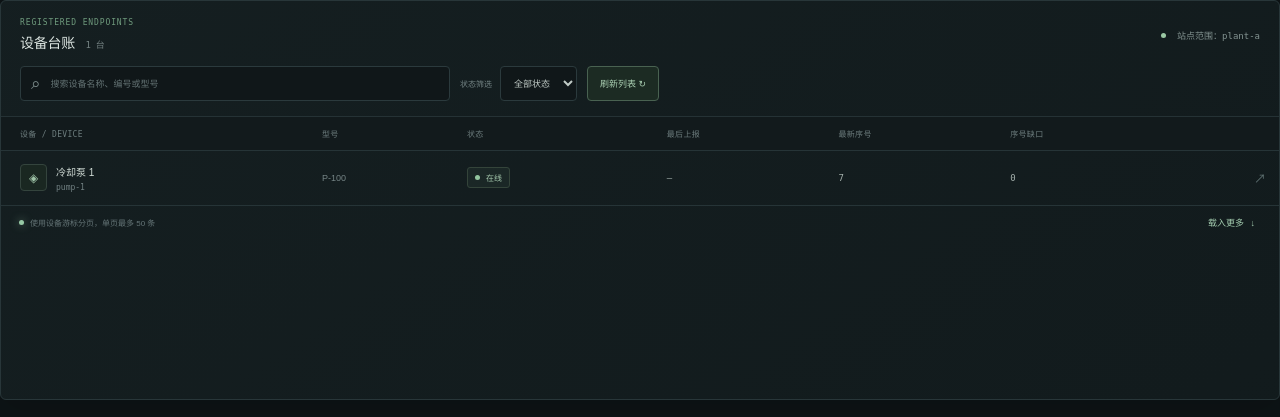
operations monitoring views › filters the loaded device page and requests subsequent pages by cursor
In the field named "搜索设备": (244, 84) [48, 78, 439, 90], type "pump-2"
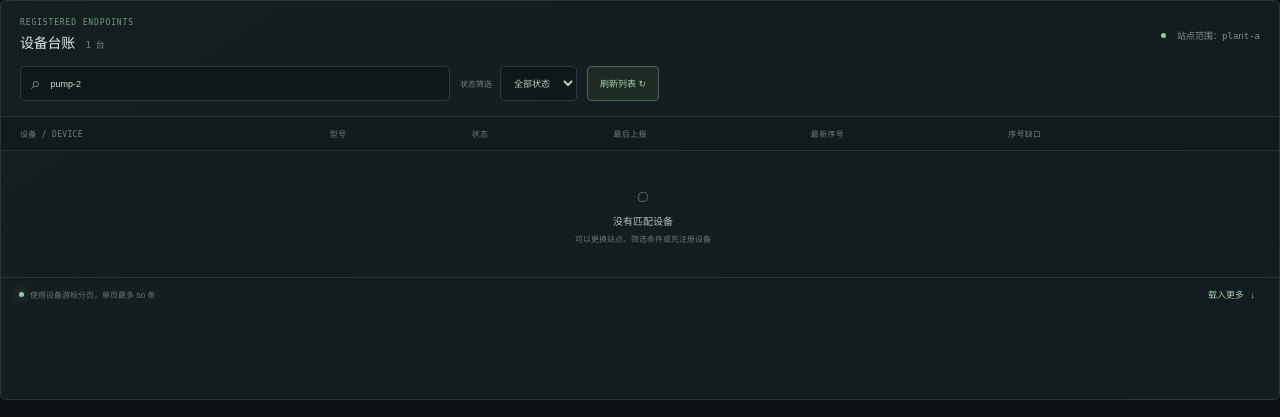
Result: the text "没有匹配设备" is shown at [613, 213, 673, 228]
Click the button with class "button-link": (1232, 294) [1202, 287, 1261, 302]
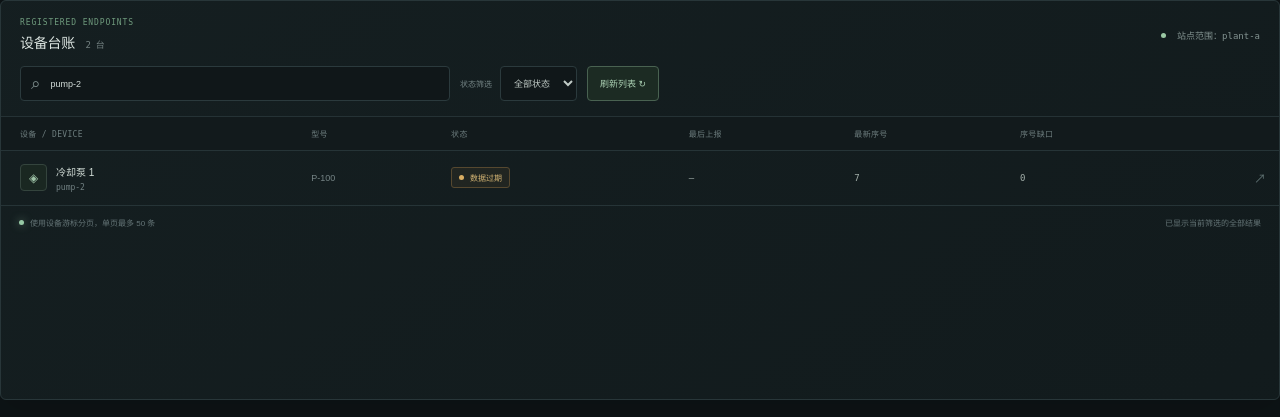
Result: the text "pump-2" is shown at [56, 183, 85, 192]
